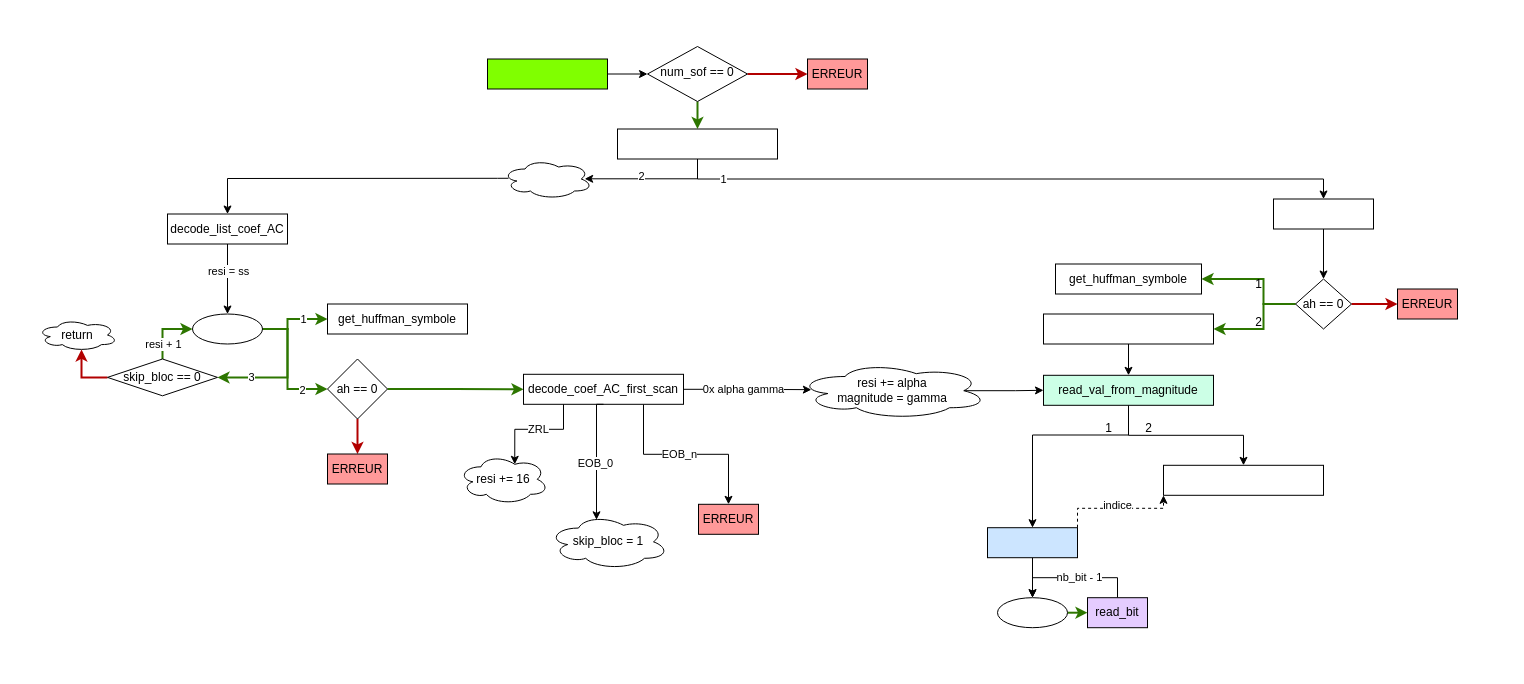
Some shapes in this 1524 by 684 pixel diagram are drawn without their labels. Each missing label, with the centre of its shape:
decode_bloc_acdc: point 547,73
decode_bloc_acdc_baseline: point 697,143
decode_coef_DC: point 1323,213
decode_coef_DC_first_scan: point 1128,328
get_val_from_magnitude: point 1243,479
nb_bit > 0: point 1032,612
read_indice: point 1032,542
resi <= se: point 227,328
ss = 1: point 547,178
